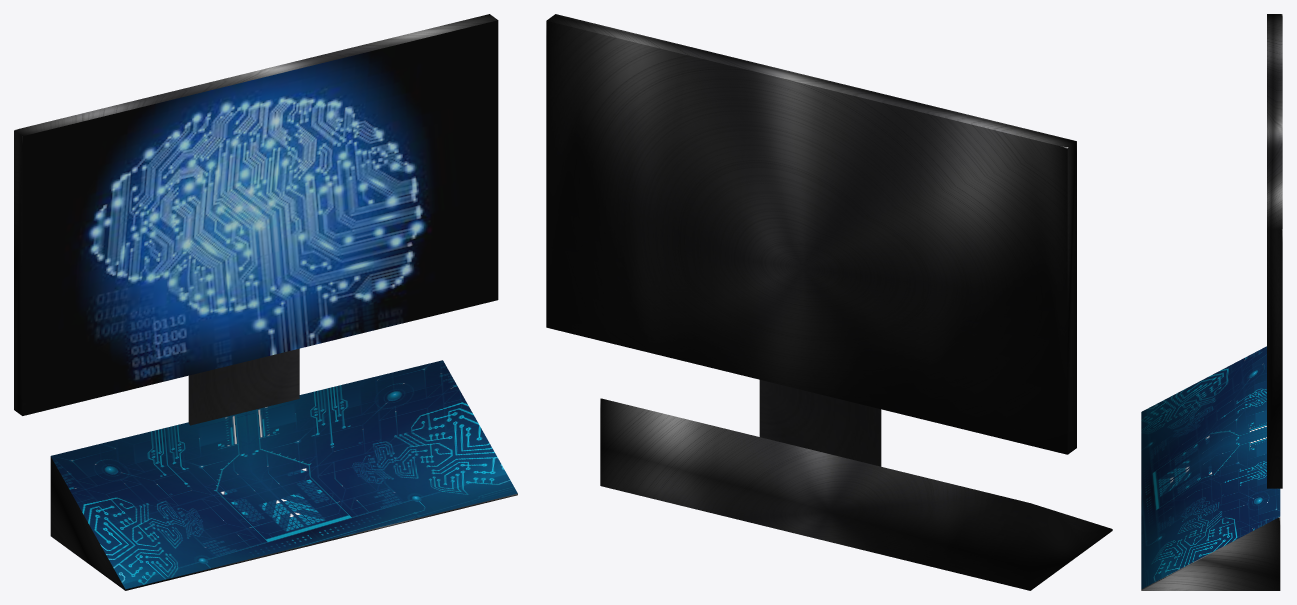
File: ordinador1.fbx
3 renders of one model, left to right at view 1: azimuth 30°, elevation 25°; view 2: azimuth 150°, elevation 25°; view 3: azimuth 270°, elevation 25°, orthographic. The views are drawn at different scales.
Visible parts, largest first — view 1: Cube_009, Cube_006, Cube_002; view 2: Cube_009, Cube_006, Cube_002; view 3: Cube_006, Cube_009.
Part boxes in pixels (x1,y1,x2,y2): Cube_009: [14, 14, 498, 415]; Cube_006: [50, 360, 517, 590]; Cube_002: [188, 348, 299, 425]; Cube_009: [546, 14, 1076, 454]; Cube_006: [600, 398, 1112, 590]; Cube_002: [759, 380, 881, 466]; Cube_006: [1141, 346, 1280, 590]; Cube_009: [1267, 14, 1282, 488].
Size of the model in its own units: 8.69 by 7.22 by 2.41.
